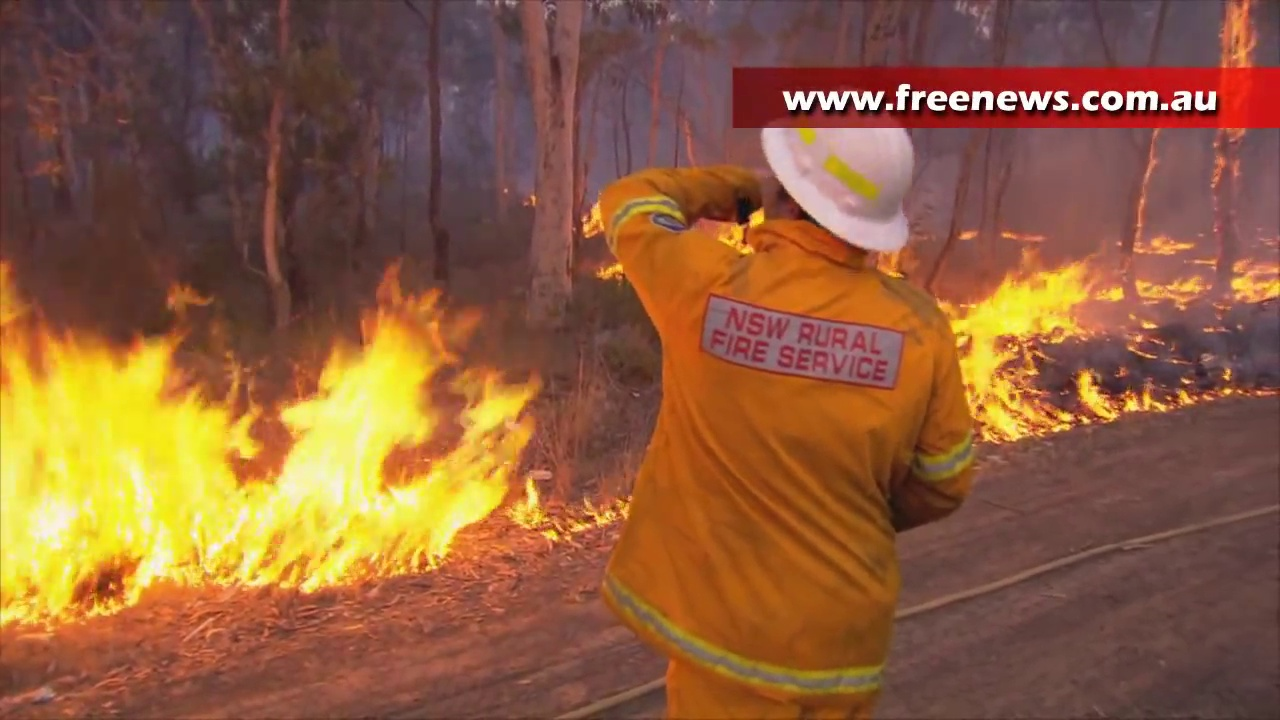fire: (1, 274, 533, 634), (942, 259, 1091, 443), (1141, 274, 1206, 299), (1236, 266, 1280, 301), (1083, 375, 1113, 419), (1150, 233, 1185, 253), (1128, 391, 1154, 411), (589, 202, 602, 227)
